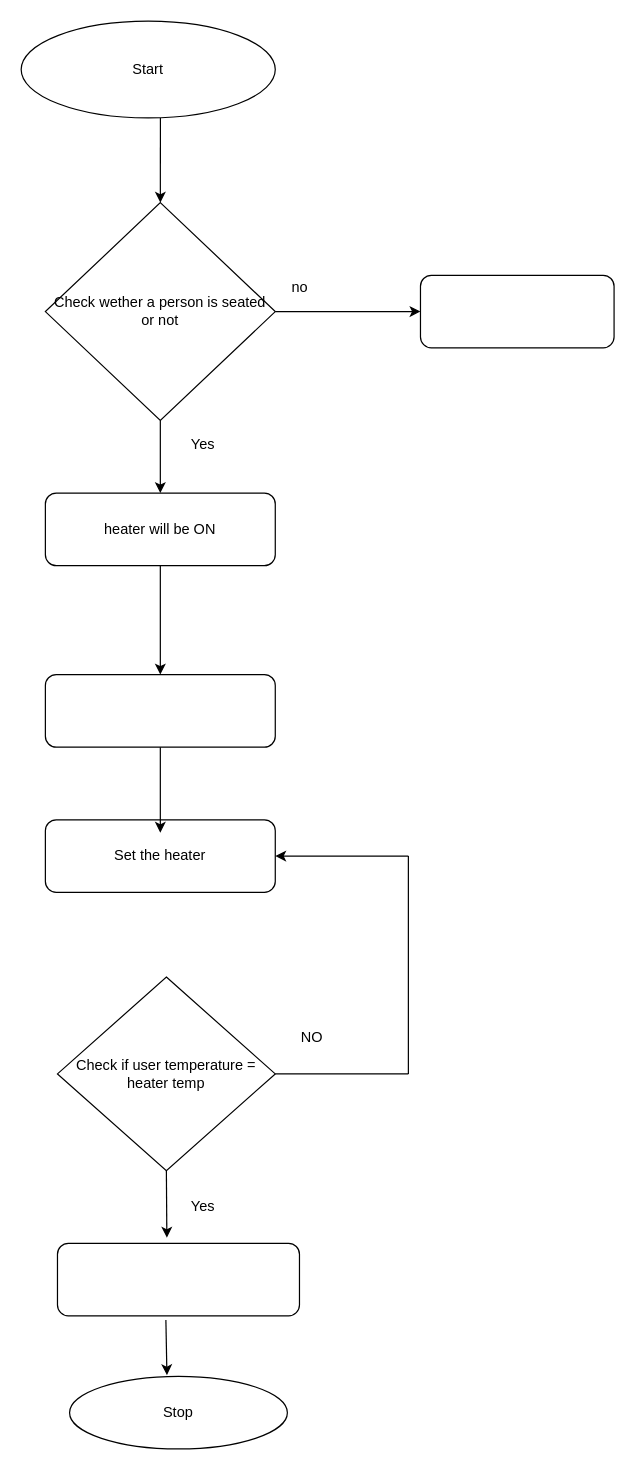
This 635x1470 diagram has some shape labels left out. Here are the shapes that lost their labels. From the top down, the centre of each, then its label:
At [516,311]: "Heater will be off".
At [159,710]: "Potentiometer will be ON".
At [177,1279]: "Display the temerature values on CDD CRO".
